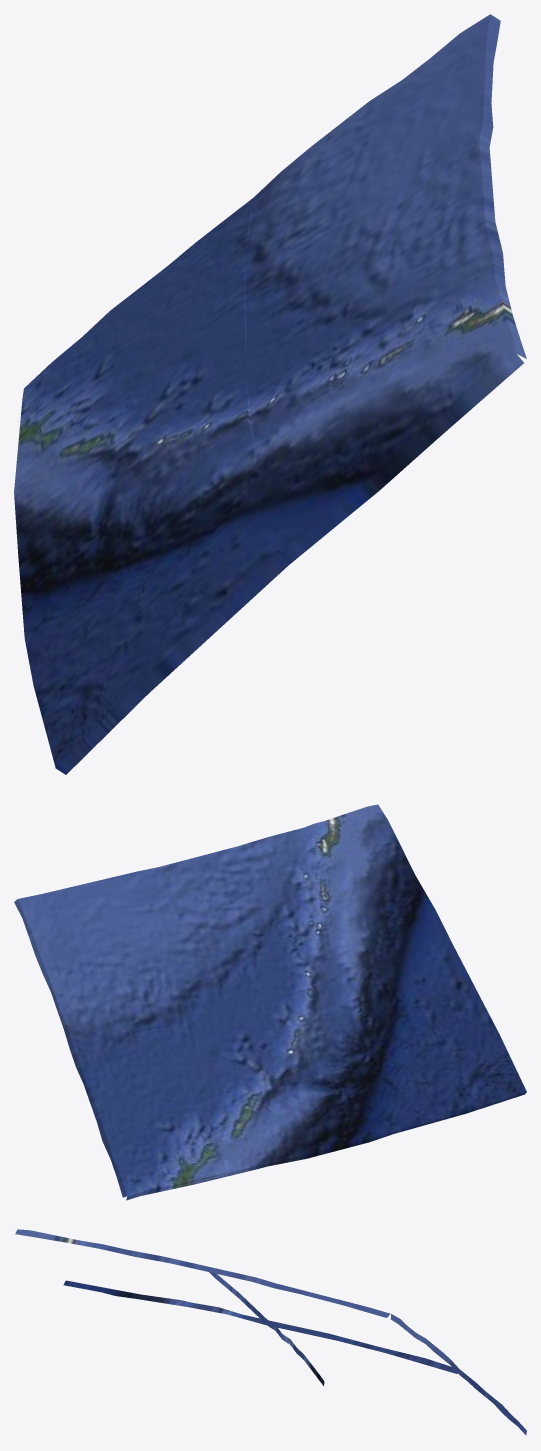
3 renders of one model, top to bottom at view 1: azimuth 30°, elevation 25°; view 2: azimuth 150°, elevation 25°; view 3: azimuth 270°, elevation 25°, orthographic. The views are drawn at different scales.
Size of the model in its own units: 810947 by 438766 by 968108.
1 material, 1 textured.
